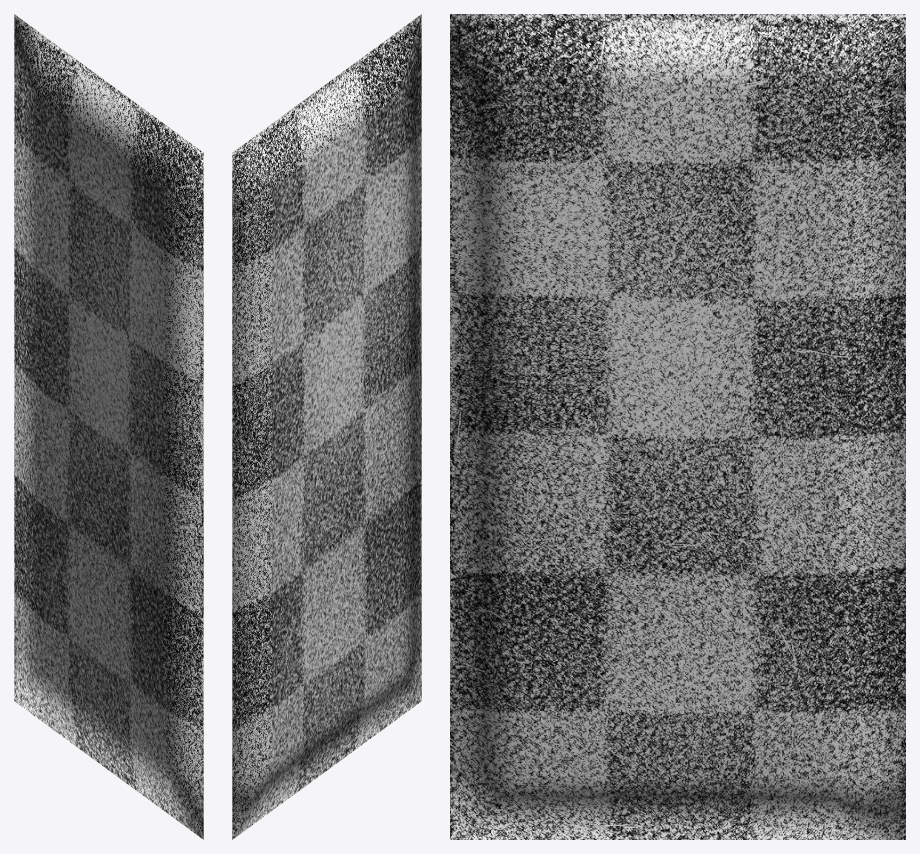
Rendered from CarpetSub5.fbx.
3 renders of one model, left to right at view 1: azimuth 30°, elevation 25°; view 2: azimuth 150°, elevation 25°; view 3: azimuth 270°, elevation 25°, orthographic. The views are drawn at different scales.
Parts seen in each view (by area): view 1: Cube; view 2: Cube; view 3: Cube.
Boxes of the visible parts, x1,y1,x2,y2 form: Cube: (14,14,203,839); Cube: (232,14,421,839); Cube: (450,14,905,839).
Size of the model in its own units: 0.1 by 4 by 2.
